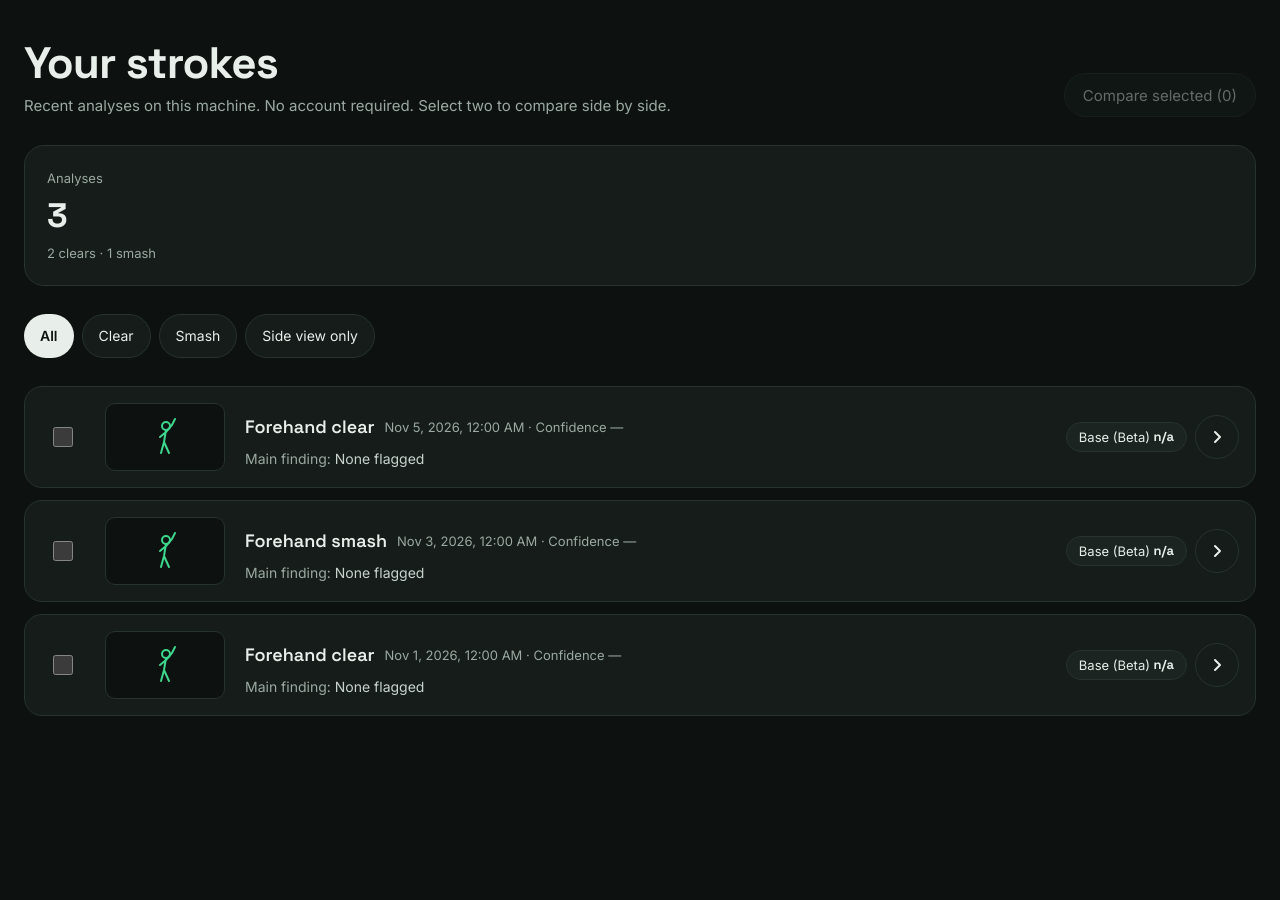
it: HistoryPage › filters by stroke and links two selected analyses to compare, oldest first
Expected: the heading "Analyses" is shown, [47,170,103,186]
Click the button "Smash" at point(198, 336), box [159,314,237,358]
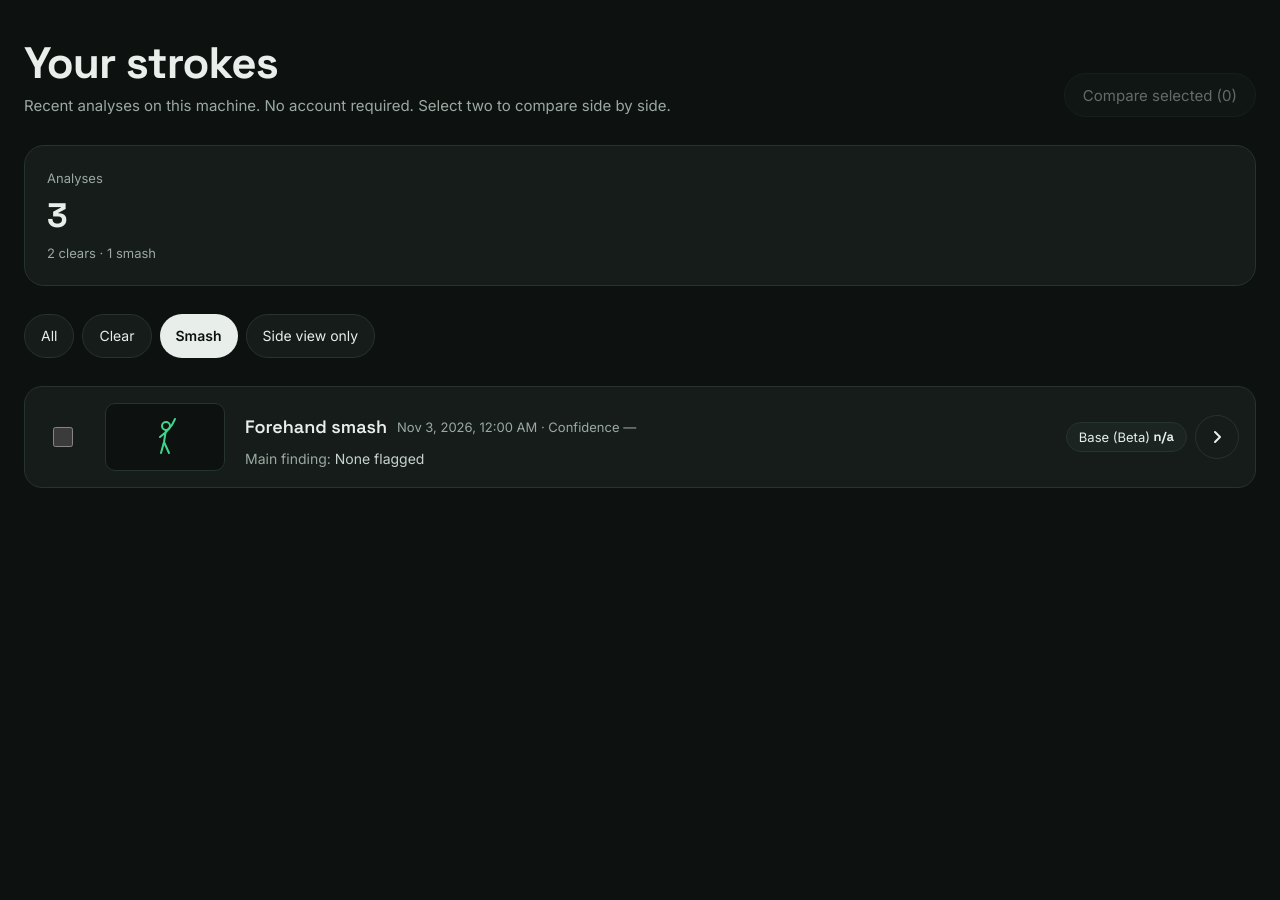
Expected: the number of checkboxes is 1, [53,427,73,447]
Click the button "Clear" at point(117, 336), box [82,314,152,358]
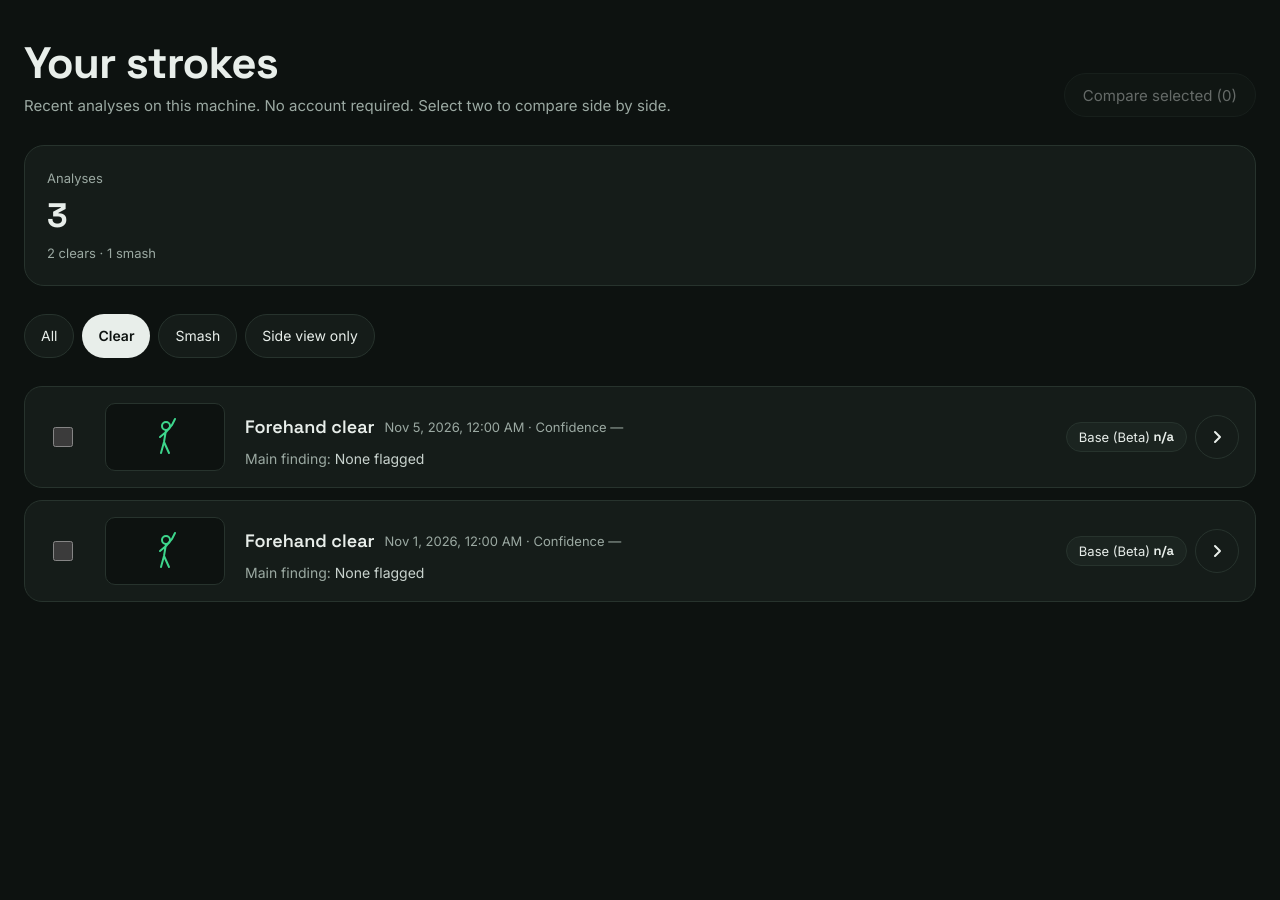
Expected: the button "Compare selected (0)" is disabled, [1064,73,1256,117]
Expected: the number of checkboxes is 2
Click the checkbox named "Select Forehand clear from Nov 5, 2026, 12:00 AM for compari" at point(63, 437), box [53,427,73,447]
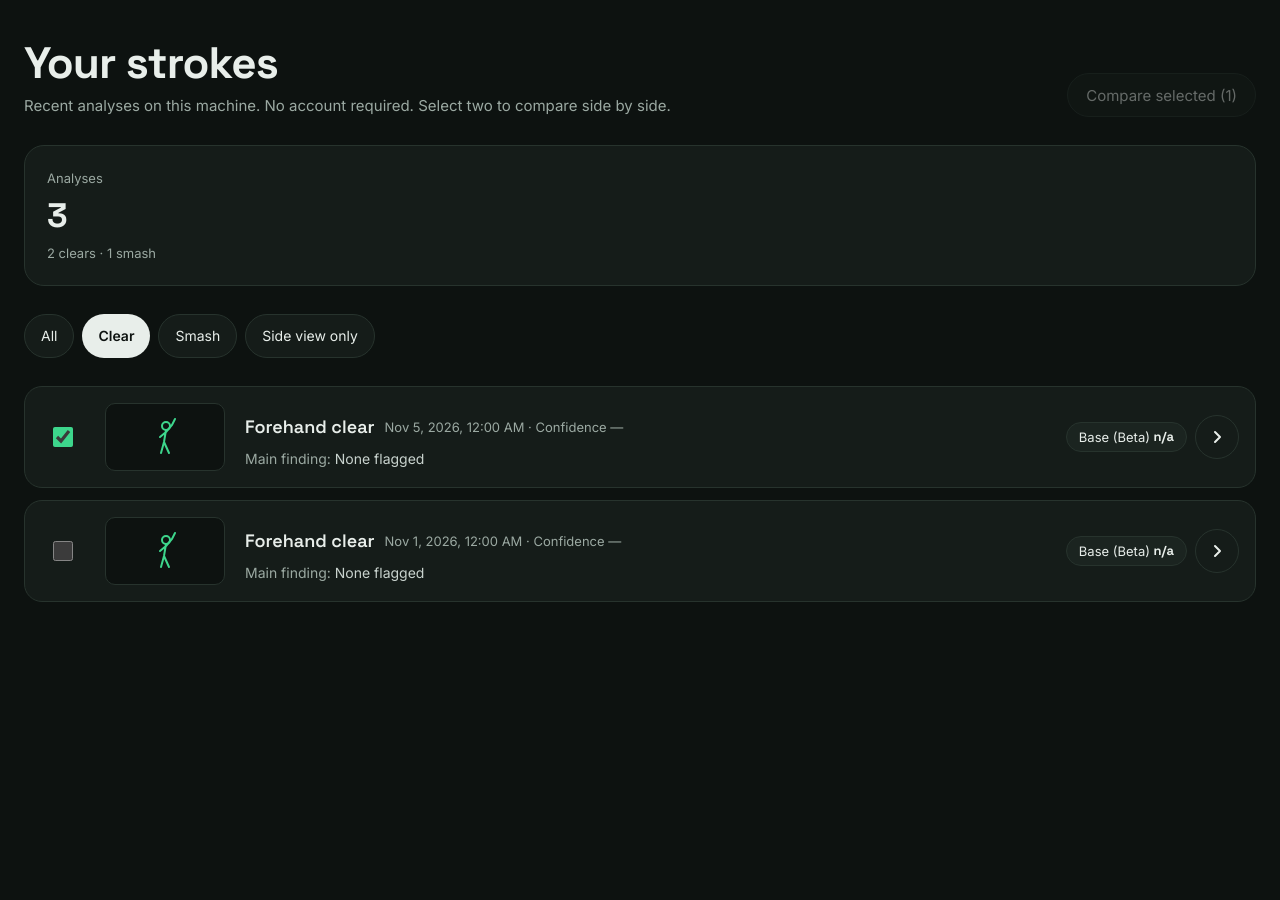
Click the checkbox named "Select Forehand clear from Nov 1, 2026, 12:00 AM for compari" at point(63, 551), box [53,541,73,561]
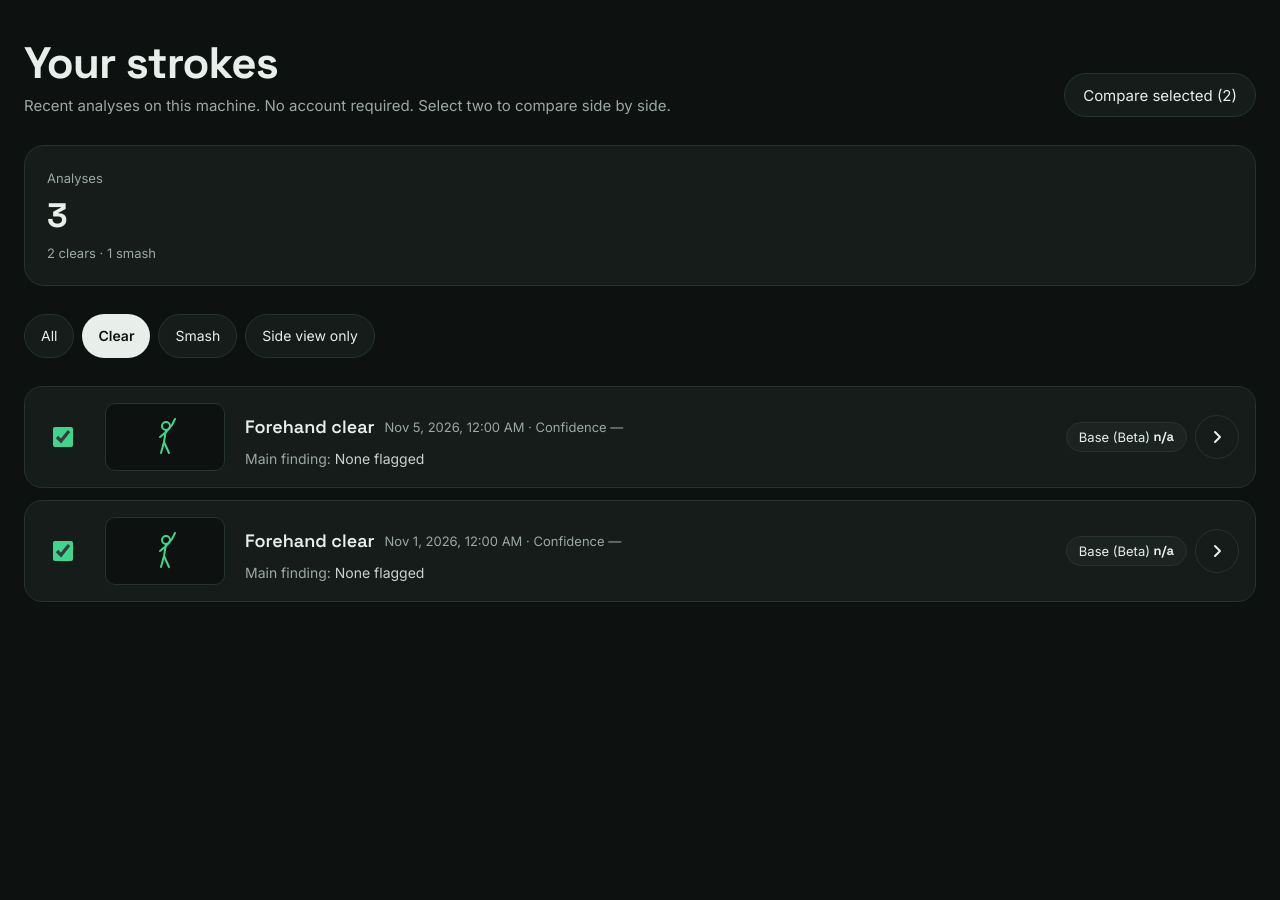
Expected: the link "Compare selected (2)" has attribute href="/compare?left=clear-old&right=clear-new", [1064,73,1256,117]
